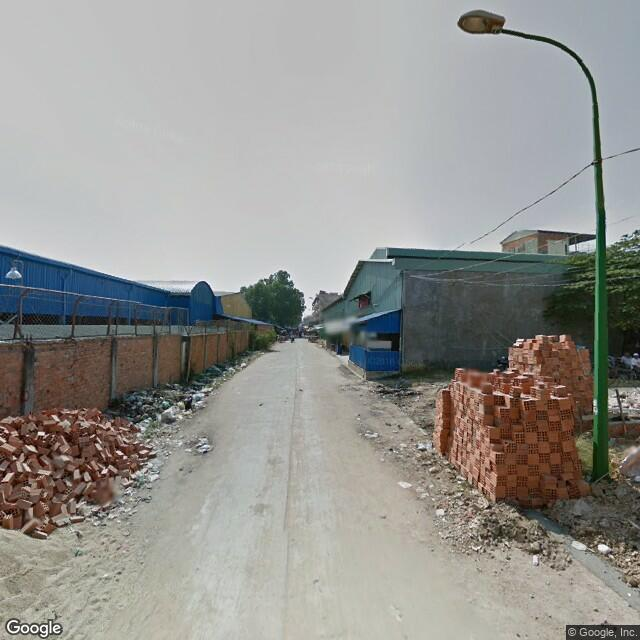litter: (411, 433, 436, 453), (192, 436, 209, 454), (359, 426, 379, 441), (598, 543, 613, 557), (570, 538, 585, 552), (396, 477, 413, 488)
